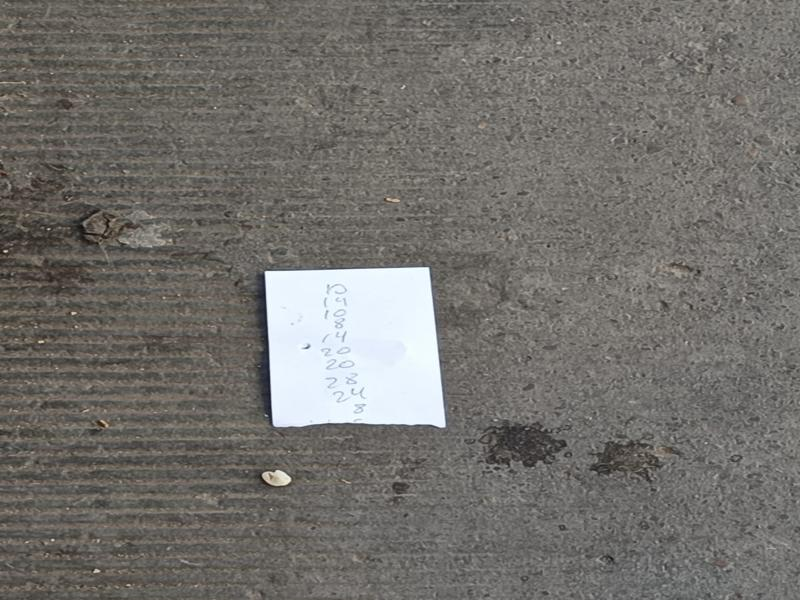papel: (258, 267, 447, 430)
